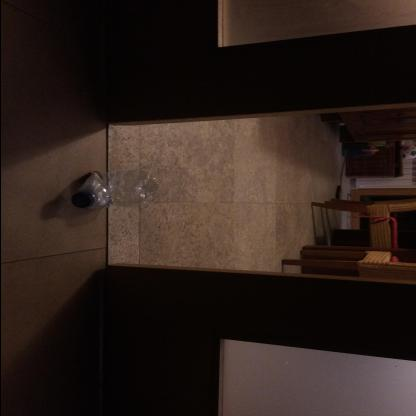plastik: (70, 168, 158, 210)
